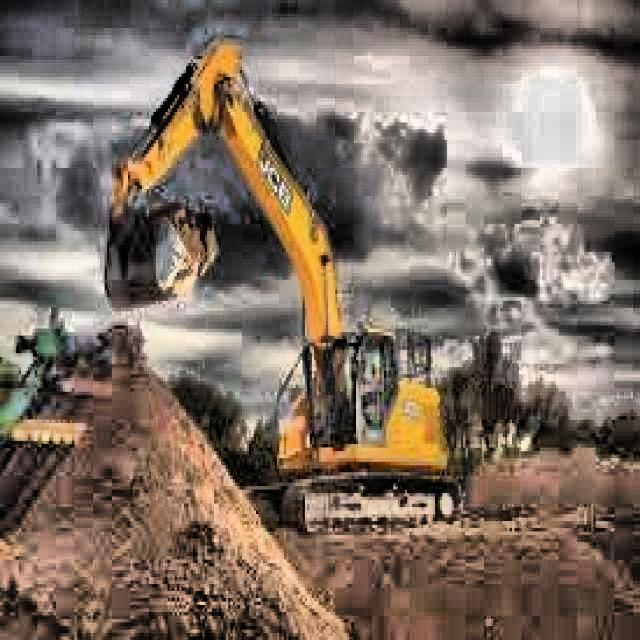bull_dozer/loader/grader: (100, 24, 466, 541)
person: (366, 361, 380, 398)
